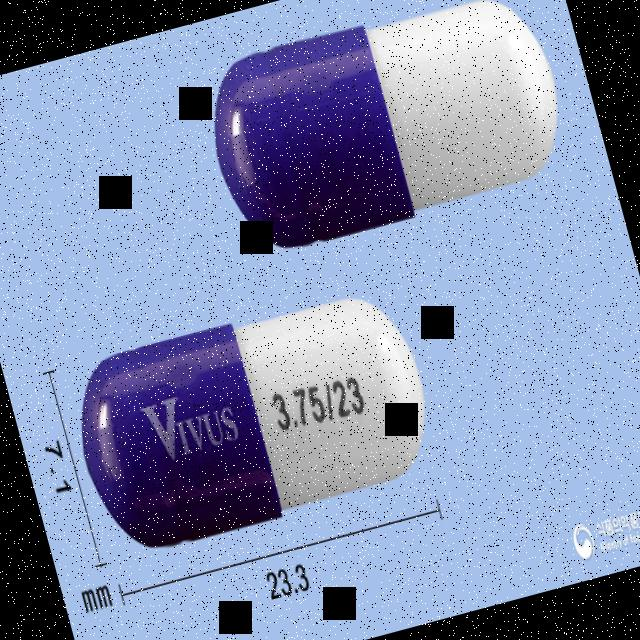Qsymia Cap-3-75mg: (59, 274, 447, 564)
